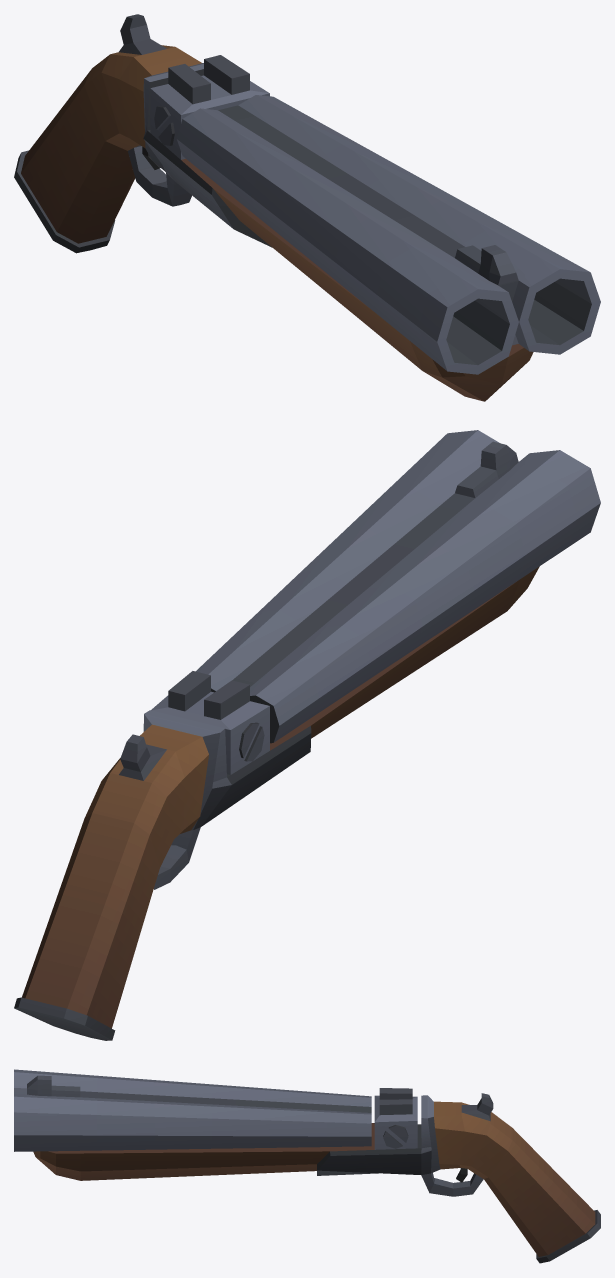
File: fbx-gun-shot-gun.fbx
3 views of the same model, one above another, from view 1: azimuth 30°, elevation 25°; view 2: azimuth 150°, elevation 25°; view 3: azimuth 270°, elevation 25° (orthographic). The views are drawn at different scales.
Visible parts, largest first — view 1: mesh-gun-shotgun; view 2: mesh-gun-shotgun; view 3: mesh-gun-shotgun.
Boxes of the visible parts, x1,y1,x2,y2 form: mesh-gun-shotgun: (14, 14, 600, 401); mesh-gun-shotgun: (14, 430, 600, 1040); mesh-gun-shotgun: (14, 1069, 600, 1263).
Bounding box in the file's own units: 0.3467 × 0.5979 × 1.75.
